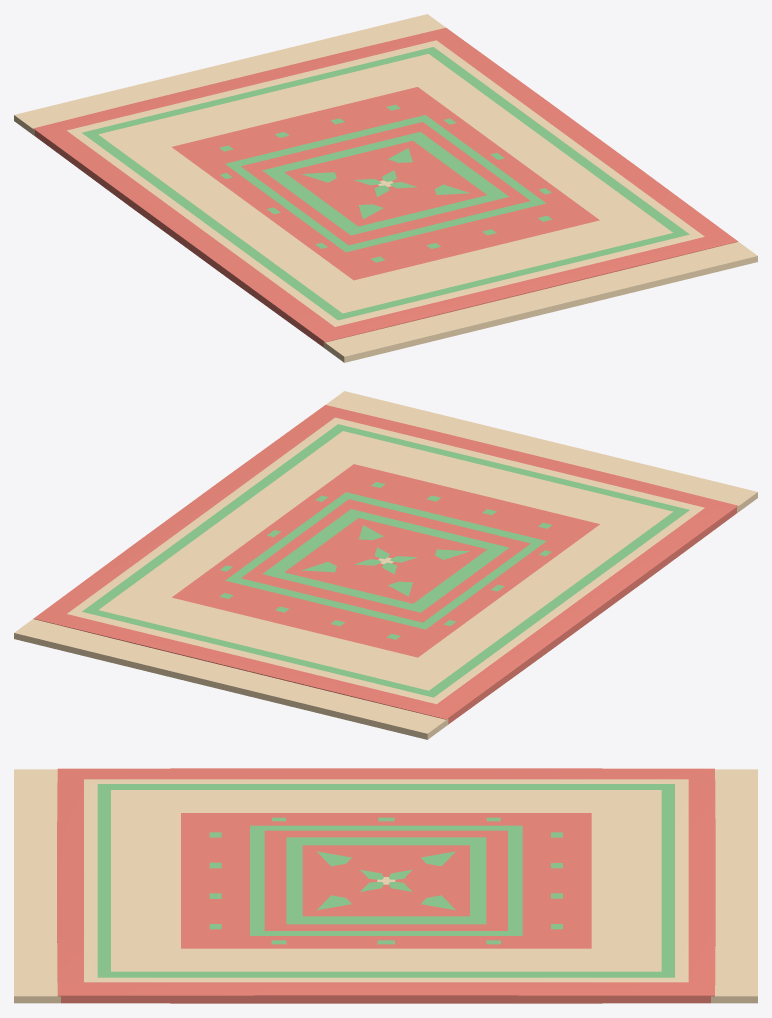
File: carpet2.glb
3 renders of one model, top to bottom at view 1: azimuth 30°, elevation 25°; view 2: azimuth 150°, elevation 25°; view 3: azimuth 270°, elevation 25°, orthographic. The views are drawn at different scales.
Visible parts, largest first — view 1: Oriental_Rug_Cube; view 2: Oriental_Rug_Cube; view 3: Oriental_Rug_Cube.
Part boxes in pixels (left/top/right/bottom): Oriental_Rug_Cube: left=14, top=14, right=757, bottom=362; Oriental_Rug_Cube: left=14, top=391, right=757, bottom=739; Oriental_Rug_Cube: left=14, top=768, right=757, bottom=1003.
Bounding box in the file's own units: 1.34 × 0.0284 × 1.86.
